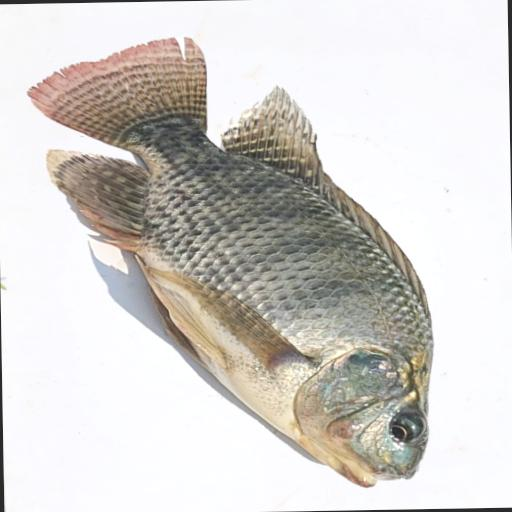Tilapia: (26, 33, 436, 493)
